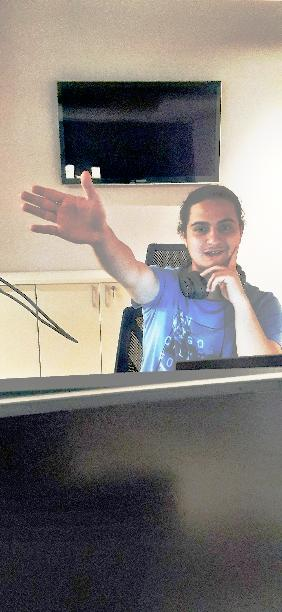Paper: (18, 169, 112, 246)
